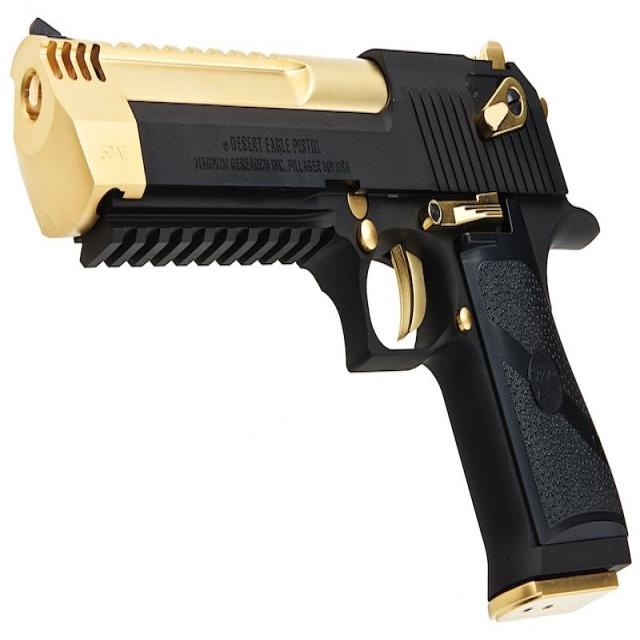handgun: (15, 18, 635, 624)
